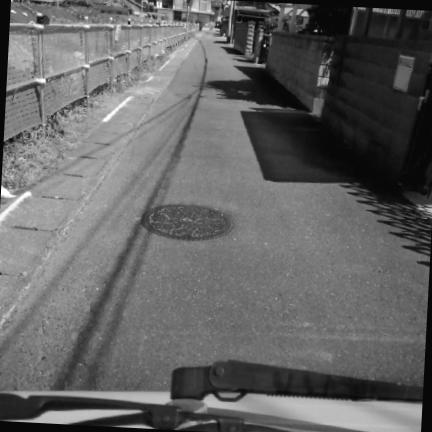Road: (0, 34, 431, 390)
